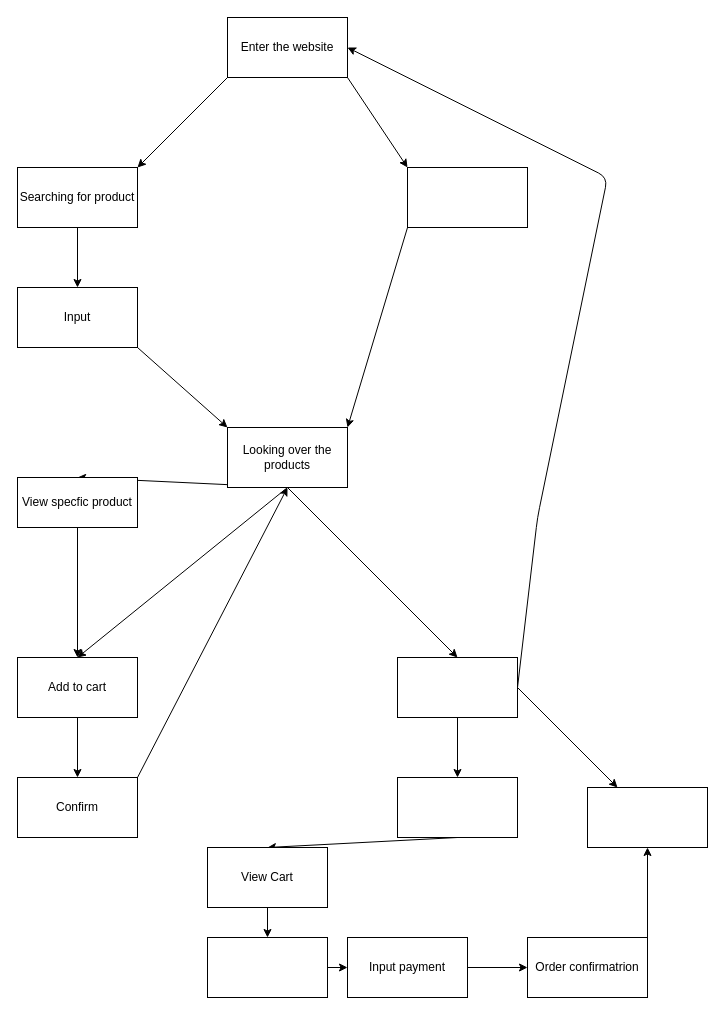
The diagram is 725 pixels wide and 1015 high, and some of its shapes have lost their labels. The centre of each missing label's shape, as x and y in pixels:
"Checkout" belongs at (x=457, y=807).
"Continue shopping" belongs at (x=457, y=687).
"exploring product" belongs at (x=467, y=197).
"Leave" belongs at (x=647, y=817).
"Payment" belongs at (x=267, y=967).
